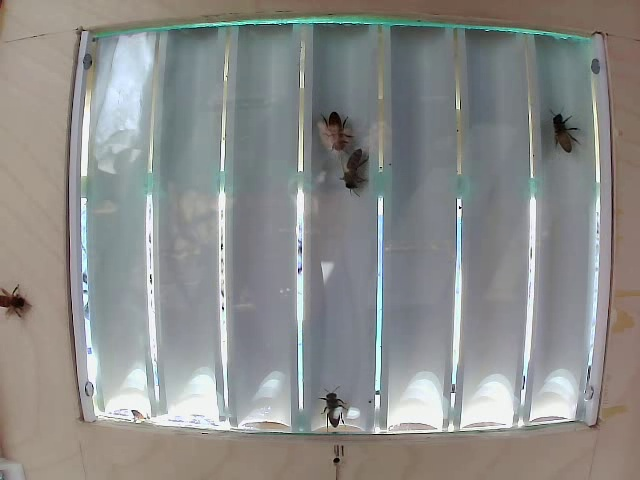bee: (311, 100, 367, 147), (535, 105, 578, 159), (339, 147, 368, 202)
